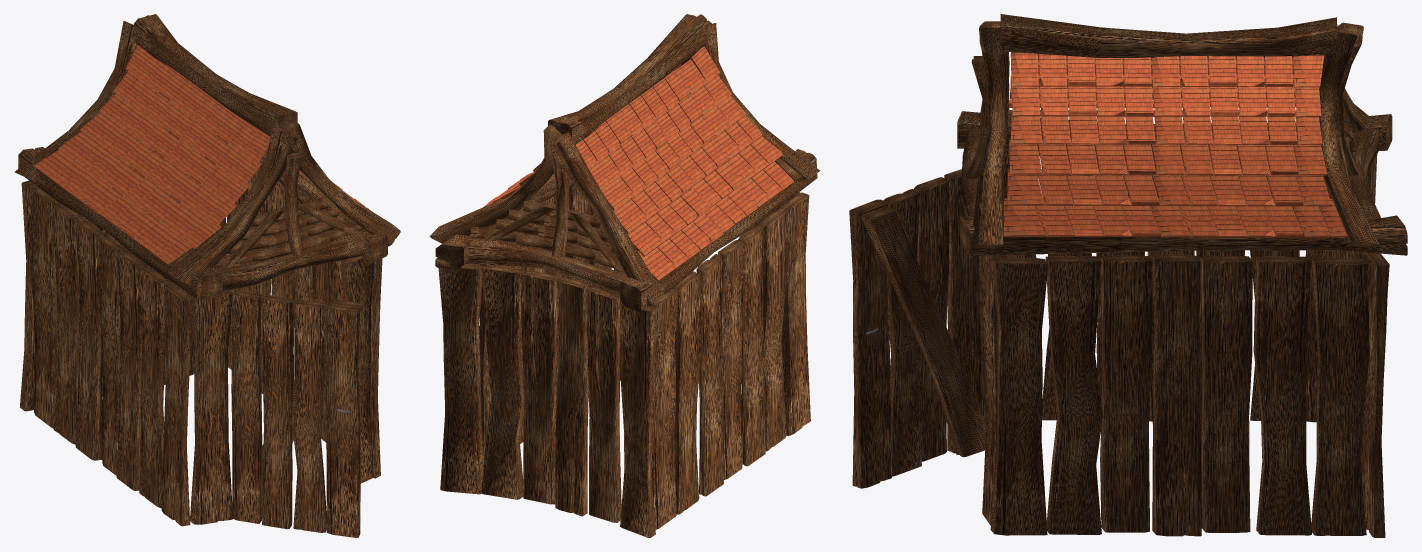
File: Baño.fbx
3 renders of one model, left to right at view 1: azimuth 30°, elevation 25°; view 2: azimuth 150°, elevation 25°; view 3: azimuth 270°, elevation 25°, orthographic. The views are drawn at different scales.
Visible parts, largest first — view 1: Object041; view 2: Object041; view 3: Object041.
Boxes of the visible parts, <box> form: Object041: <box>14,14,400,537</box>; Object041: <box>429,14,820,537</box>; Object041: <box>849,14,1407,537</box>.
Size of the model in its own units: 0.6807 by 1.09 by 1.19.
